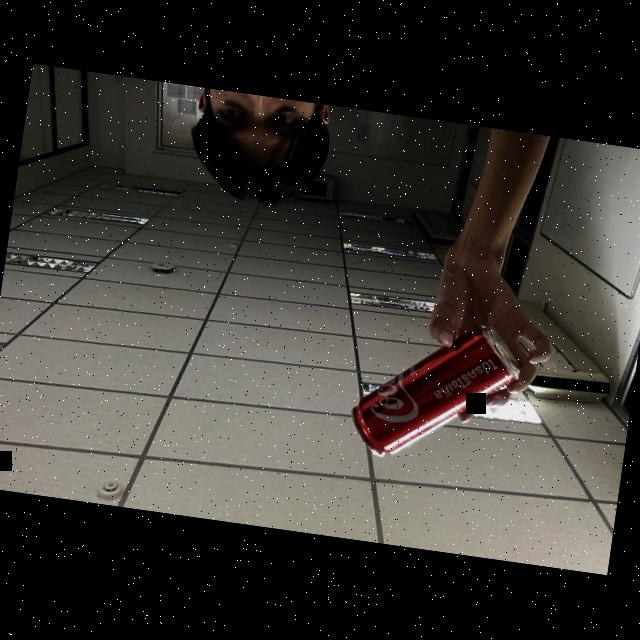plastic_bottle: (346, 307, 526, 479)
